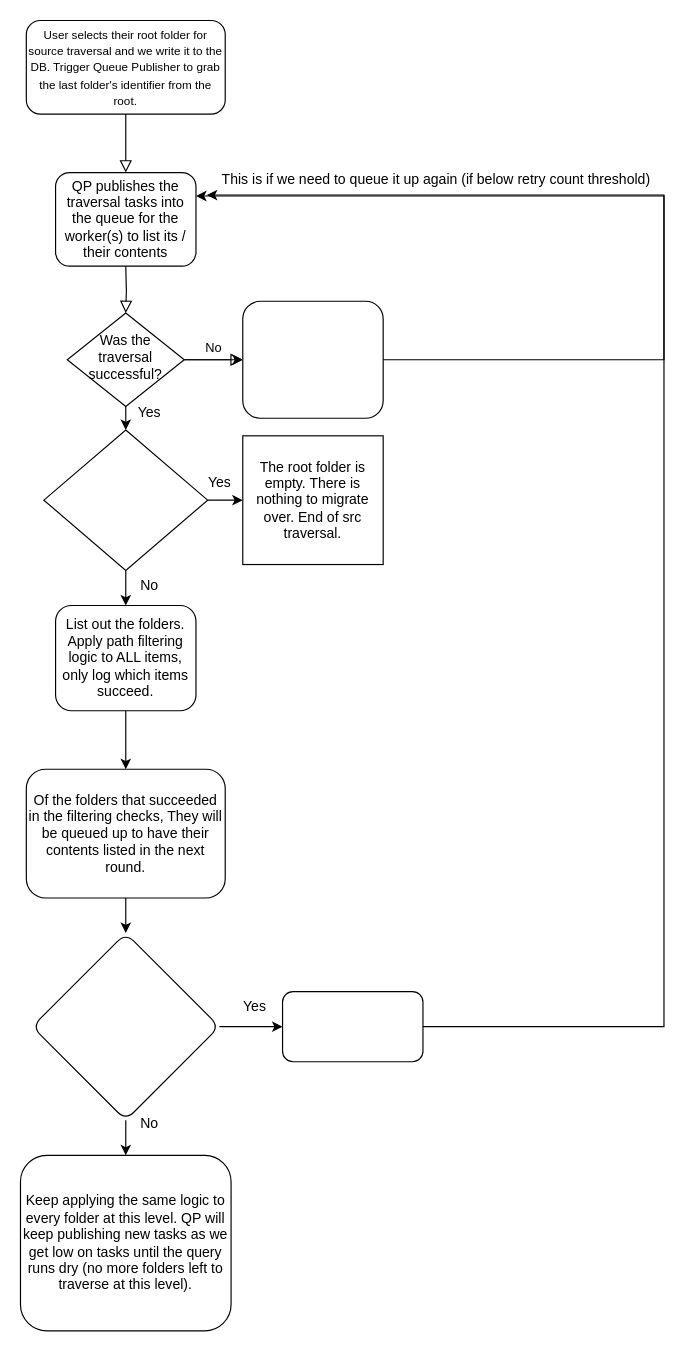
This 694x1351 diagram has some shape labels left out. The centre of each missing label's shape, as x and y in pixels:
"End of round. Increase round count by 1 start the next round. Same process." belongs at pixel 352 1026.
"Log the errors, increment attempt counter, QP will queue it up again for a retry" belongs at pixel 312 359.
"Traversed all folders at this level?" belongs at pixel 125 1026.
"Was the folder empty?" belongs at pixel 125 499.
